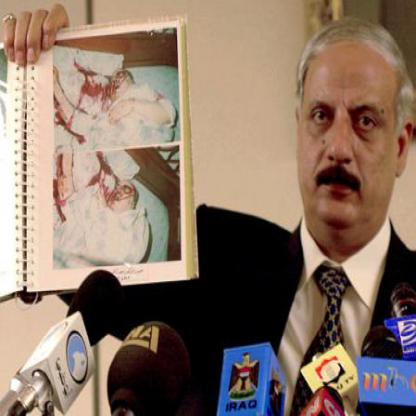face: (295, 20, 402, 233)
